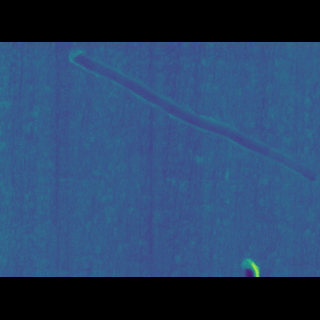Loch: (65, 77, 319, 178), (239, 228, 264, 246)
